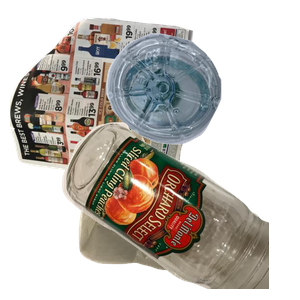glass: (60, 120, 300, 300)
paper: (10, 15, 196, 195)
plastic: (104, 31, 300, 168)
trash: (76, 124, 287, 300)
